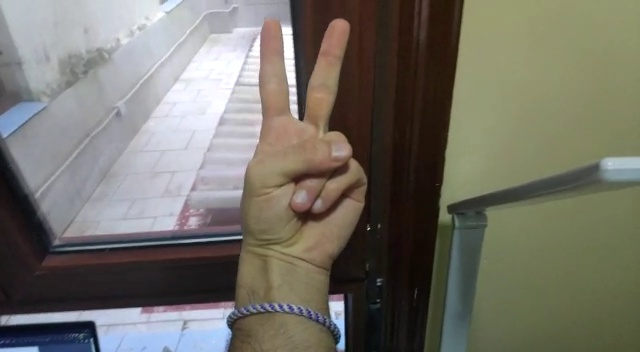Peace: (223, 9, 370, 248)
